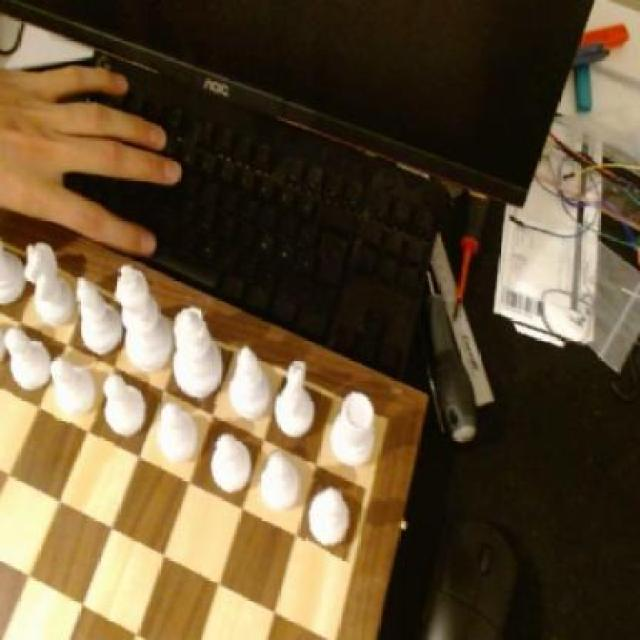black-rook: (75, 278, 123, 356), (229, 344, 272, 414)
white-bishop: (117, 257, 175, 370)
white-king: (23, 241, 80, 327), (272, 362, 327, 444)
white-knight: (306, 482, 356, 560), (100, 372, 149, 446), (52, 351, 100, 425), (5, 329, 52, 401), (209, 430, 255, 502), (258, 454, 302, 521), (157, 402, 199, 469)
white-pawn: (174, 300, 226, 405)
white-queen: (329, 384, 382, 474)
